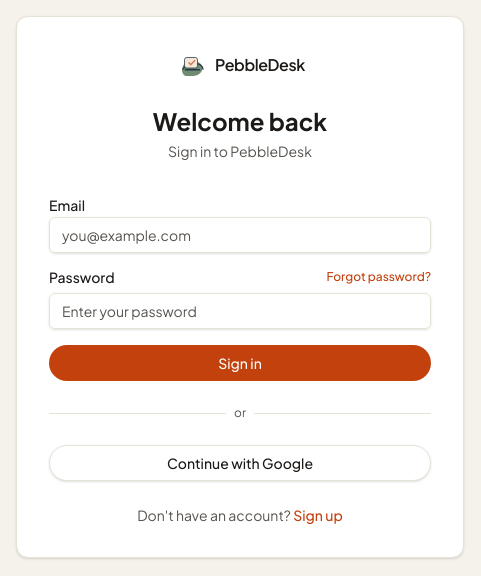
Scenario: public auth pages › ignores rapid double-clicks on Google sign-in button
First click
Click the button "Continue with Google". click: (240,463)
box: [49,445,431,481]
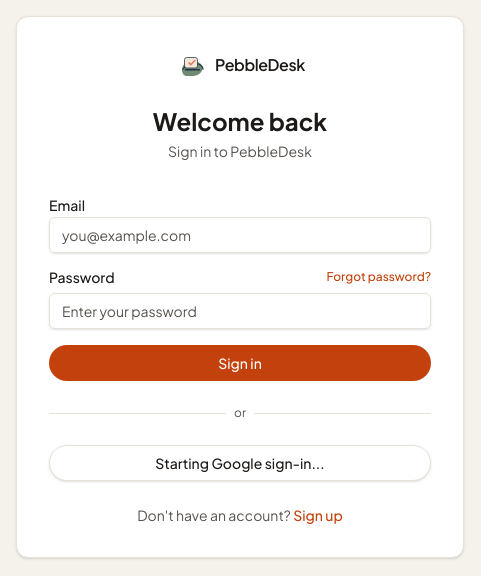
Second rapid click — should be ignored
Click the button named "Continue with Google". click: (240,463)
box: [49,445,431,481]
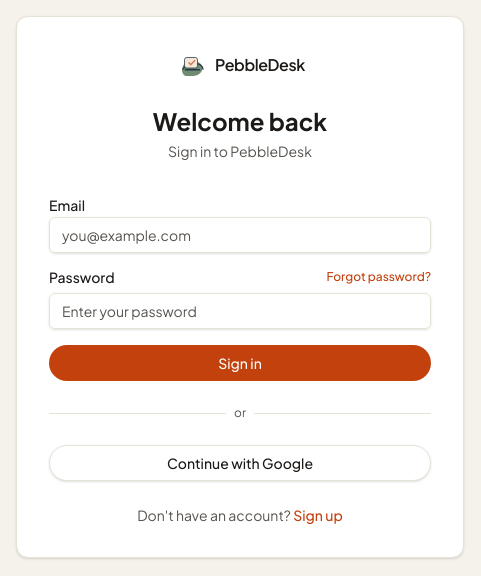
Result: the button "Continue with Google" is enabled at [49,445,431,481]
